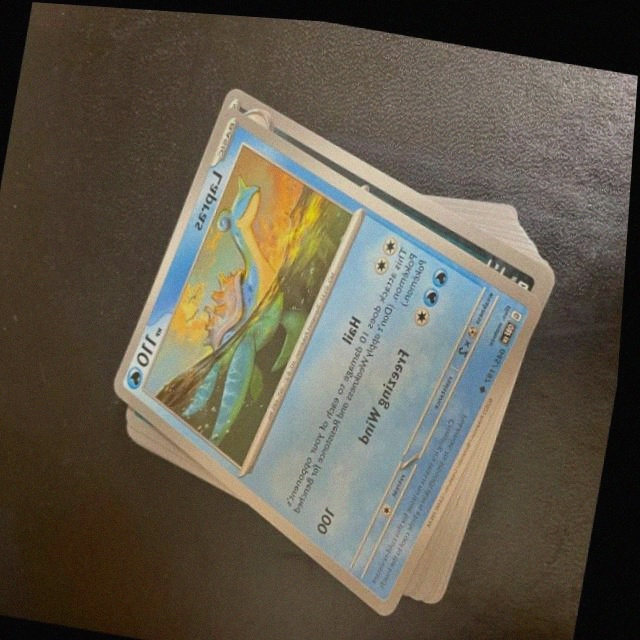card: (119, 101, 544, 610)
